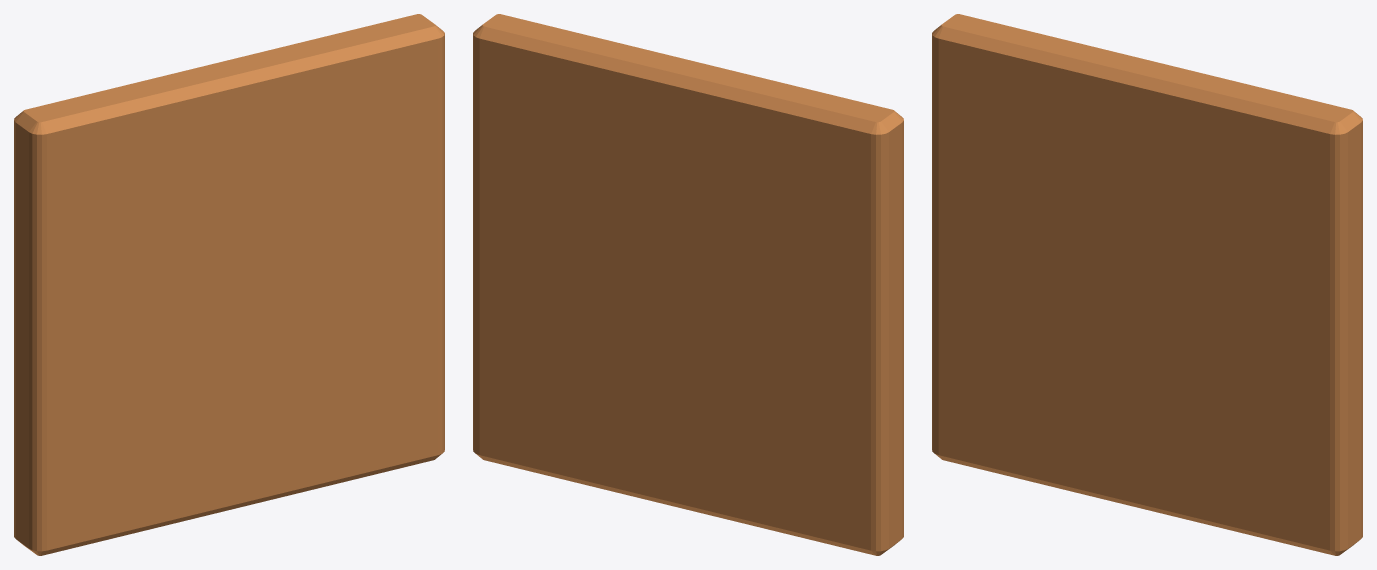
Rendered from Wall_Solid.obj.
The picture shows the model from 3 angles, left to right: view 1: azimuth 30°, elevation 25°; view 2: azimuth 150°, elevation 25°; view 3: azimuth 330°, elevation 25°; orthographic projection.
Parts seen in each view (by area): view 1: Wall_Solid; view 2: Wall_Solid; view 3: Wall_Solid.
Part boxes in pixels (left/top/right/bottom): Wall_Solid: left=14, top=14, right=444, bottom=555; Wall_Solid: left=473, top=14, right=903, bottom=555; Wall_Solid: left=932, top=14, right=1362, bottom=555.
Bounding box in the file's own units: 2 × 2 × 0.22.
